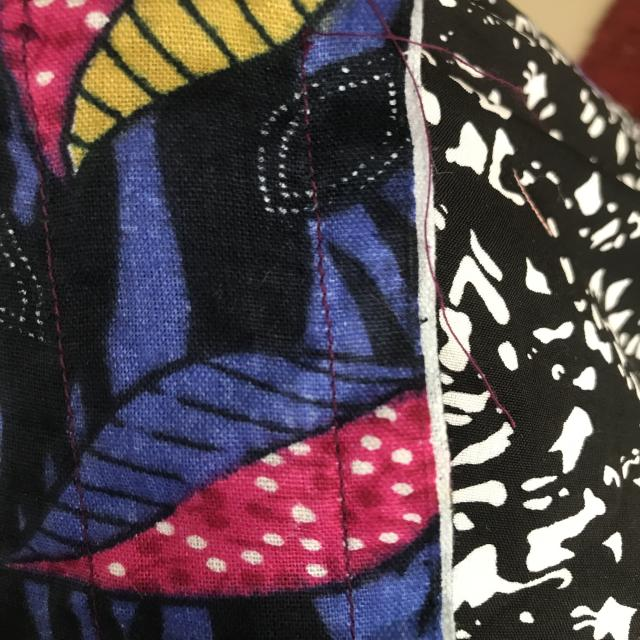good: (34, 212, 90, 378), (297, 220, 353, 376), (322, 430, 362, 564)
